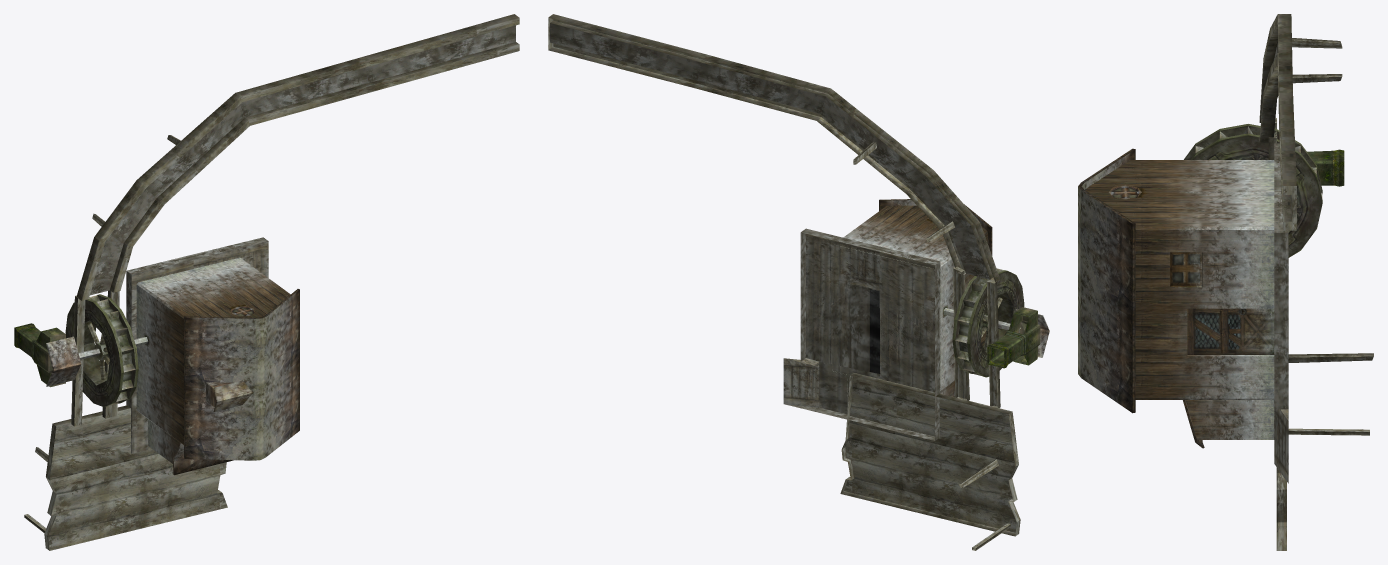
Rendered from zhanchang_fuben_191_shuichefang_01.obj.
3 views of the same model, side by side, from view 1: azimuth 30°, elevation 25°; view 2: azimuth 150°, elevation 25°; view 3: azimuth 270°, elevation 25° (orthographic). The views are drawn at different scales.
Visible parts, largest first — view 1: zhanchang_fuben_191_shuichefang_01, Object01; view 2: zhanchang_fuben_191_shuichefang_01, Object01; view 3: zhanchang_fuben_191_shuichefang_01, Object01.
Boxes of the visible parts, left/top/right/bottom form: zhanchang_fuben_191_shuichefang_01: left=14, top=14, right=519, bottom=550; Object01: left=65, top=294, right=147, bottom=406; zhanchang_fuben_191_shuichefang_01: left=548, top=14, right=1049, bottom=550; Object01: left=943, top=268, right=1024, bottom=377; zhanchang_fuben_191_shuichefang_01: left=1078, top=14, right=1373, bottom=550; Object01: left=1184, top=124, right=1322, bottom=257.
Bounding box in the file's own units: 470 × 385 × 185.
4 materials, 4 textured.
